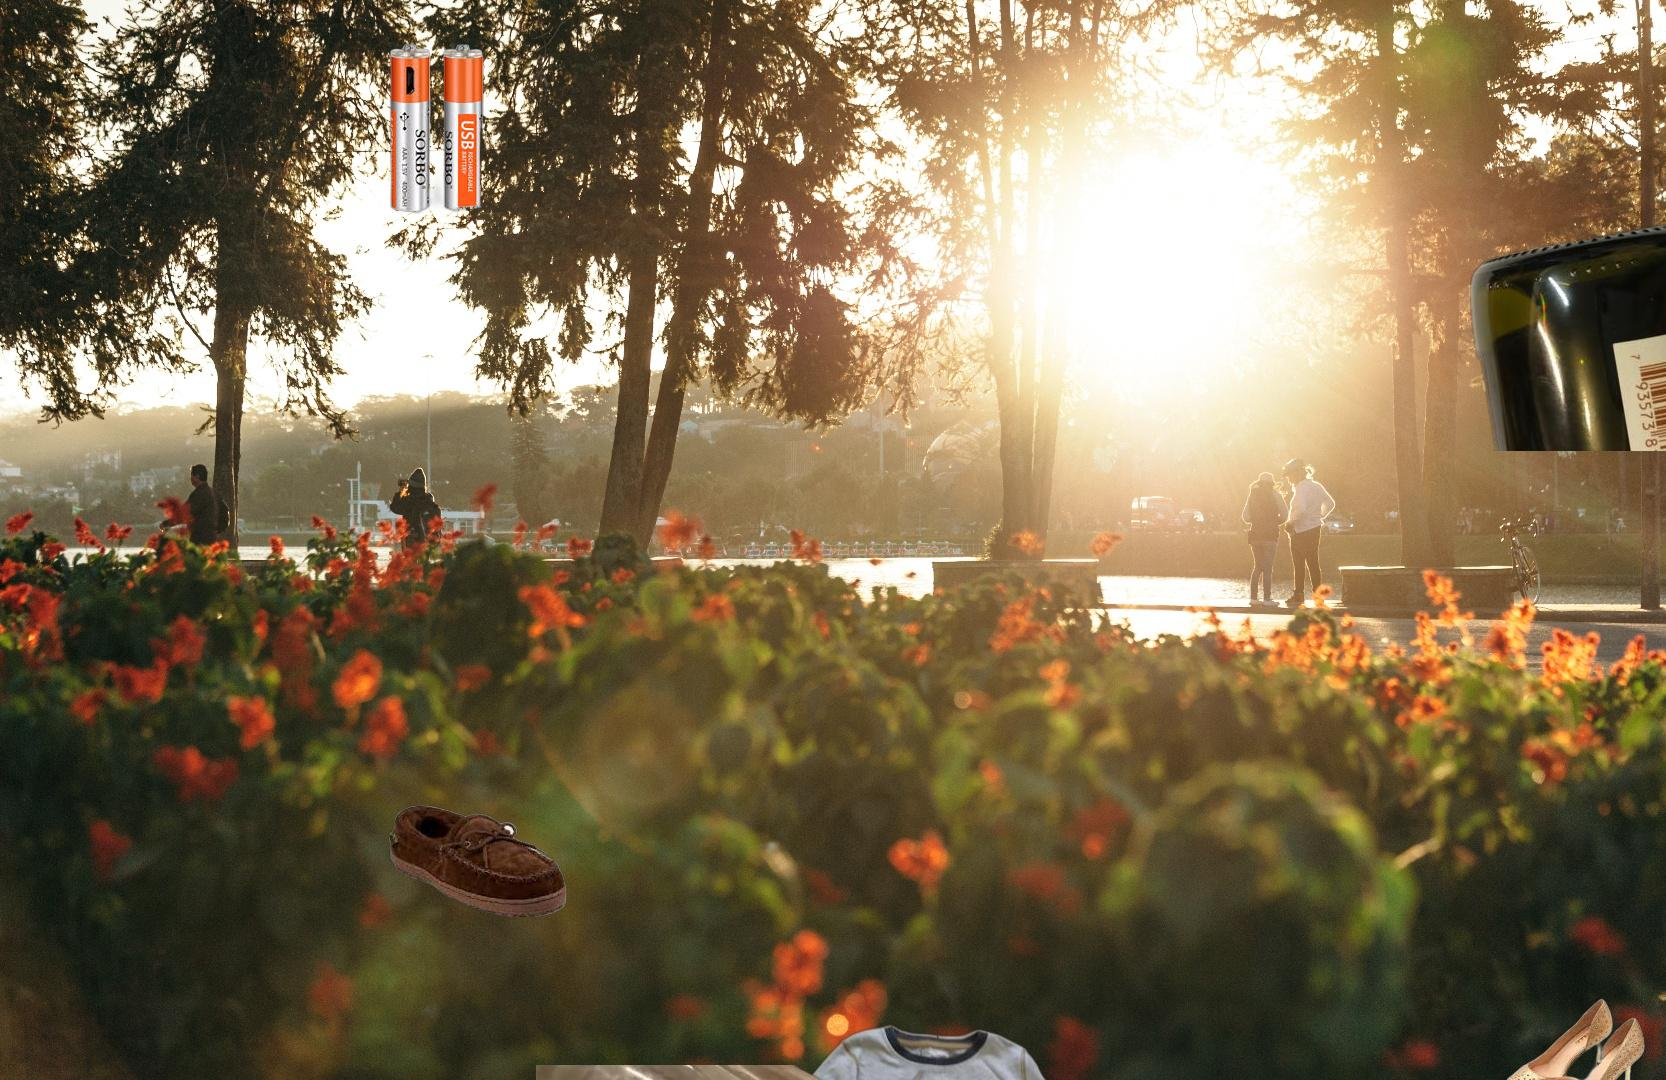battery: (387, 38, 487, 216)
clothes: (756, 1020, 1101, 1080)
glass: (1467, 217, 1666, 451), (535, 1065, 928, 1080)
shoes: (386, 803, 569, 920), (1497, 996, 1648, 1080), (1660, 177, 1666, 268)
